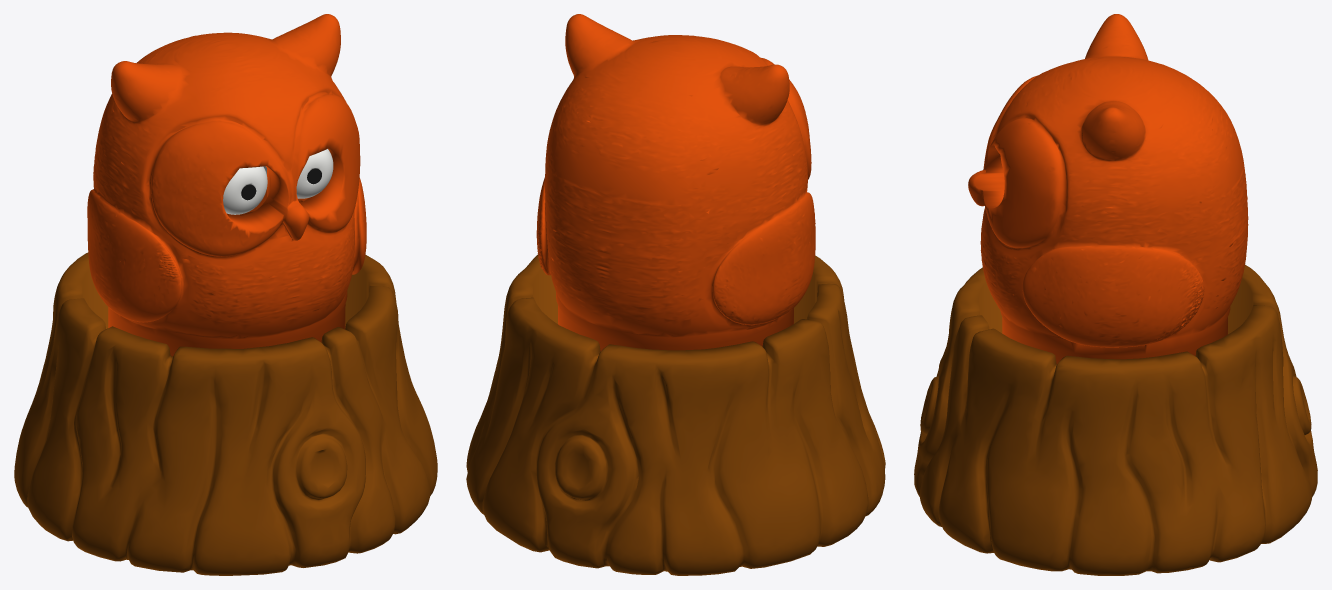
The model's file is pop-eyed-owl.glb.
3 views of the same model, side by side, from view 1: azimuth 30°, elevation 25°; view 2: azimuth 150°, elevation 25°; view 3: azimuth 270°, elevation 25° (orthographic). The views are drawn at different scales.
Parts seen in each view (by area): view 1: base, head, eyes; view 2: base, head; view 3: base, head.
Boxes of the visible parts, x1,y1,x2,y2 form: base: (14,252,437,575); head: (87,14,366,356); eyes: (223,149,333,214); base: (466,254,885,575); head: (536,14,815,351); base: (914,264,1317,575); head: (968,14,1248,364).
Size of the model in its own units: 77.83 by 91.81 by 77.78.
